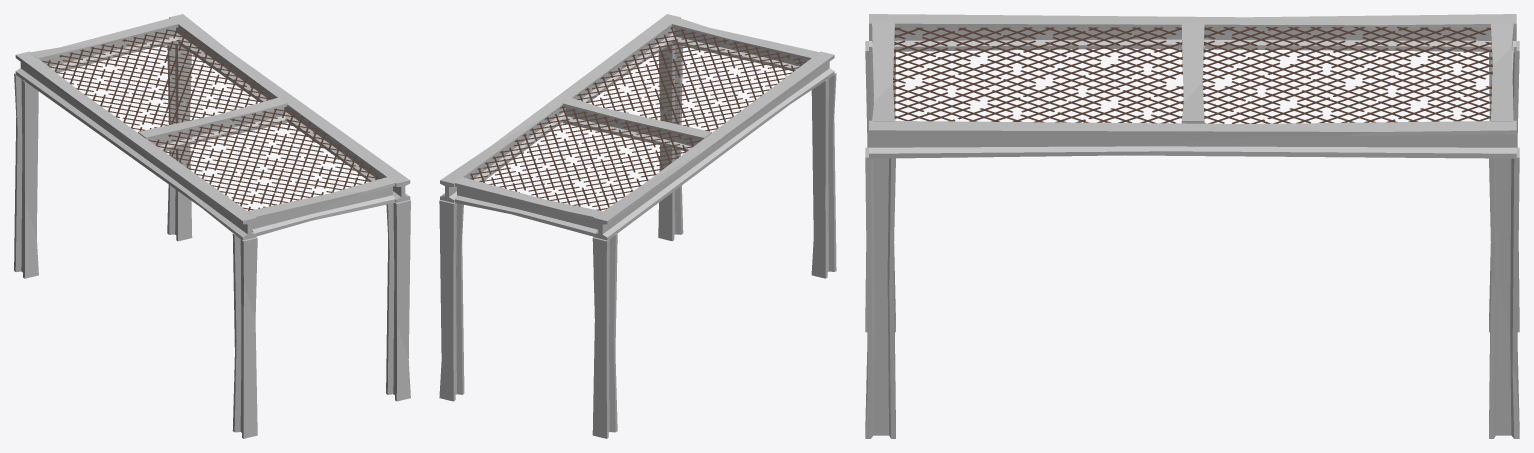
Rendered from SM_Bld_IndustrialWalkway_Preset_02.fbx.
3 renders of one model, left to right at view 1: azimuth 30°, elevation 25°; view 2: azimuth 150°, elevation 25°; view 3: azimuth 270°, elevation 25°, orthographic. The views are drawn at different scales.
Parts seen in each view (by area): view 1: SM_Bld_IndustrialWalkway_Preset_02; view 2: SM_Bld_IndustrialWalkway_Preset_02; view 3: SM_Bld_IndustrialWalkway_Preset_02.
Part boxes in pixels (left/top/right/bottom): SM_Bld_IndustrialWalkway_Preset_02: left=14, top=14, right=410, bottom=438; SM_Bld_IndustrialWalkway_Preset_02: left=439, top=14, right=836, bottom=438; SM_Bld_IndustrialWalkway_Preset_02: left=865, top=14, right=1519, bottom=438.
Size of what is drawn, in the model's own units: 252 by 311 by 597.
